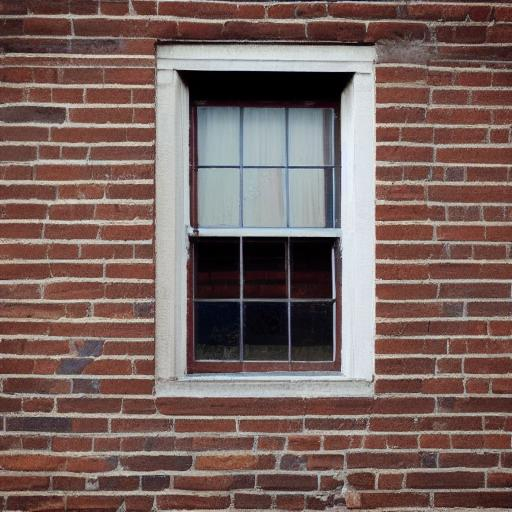Window: (149, 41, 385, 403)
